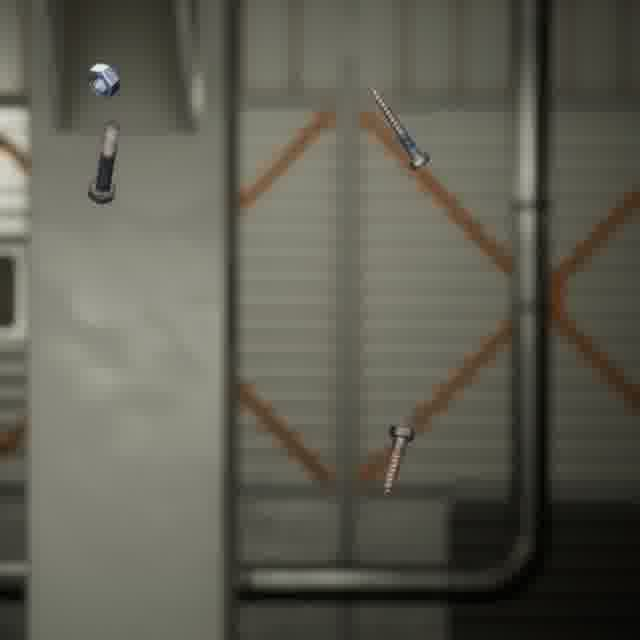bolt: (364, 80, 434, 174), (83, 116, 123, 208), (376, 420, 419, 498)
nut: (83, 59, 124, 101)
